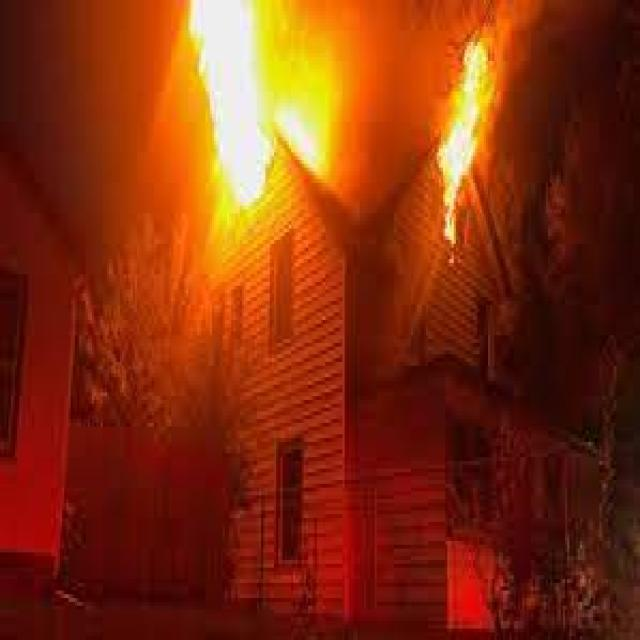Fire: (187, 0, 308, 184), (435, 61, 487, 218)
